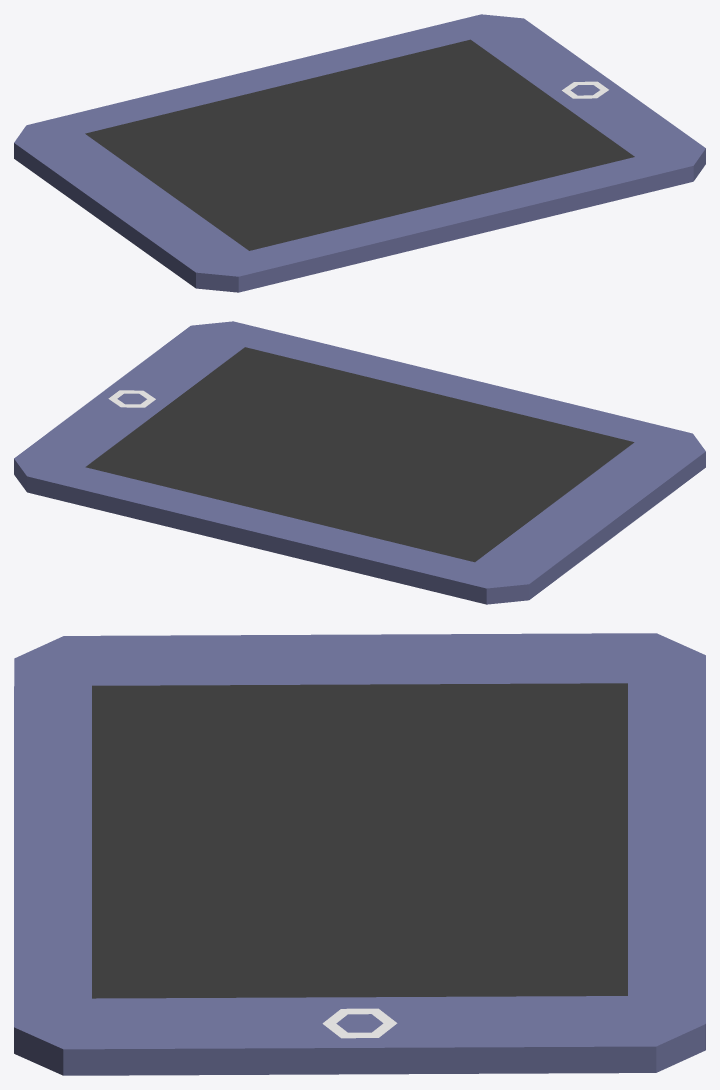
File: iPad.fbx
3 renders of one model, top to bottom at view 1: azimuth 30°, elevation 25°; view 2: azimuth 150°, elevation 25°; view 3: azimuth 270°, elevation 25°, orthographic. The views are drawn at different scales.
Visible parts, largest first — view 1: iPad; view 2: iPad; view 3: iPad.
Boxes of the visible parts, left/top/right/bottom form: iPad: left=14, top=14, right=705, bottom=292; iPad: left=14, top=321, right=705, bottom=604; iPad: left=14, top=633, right=705, bottom=1075.
Size of the model in its own units: 31.71 by 22.28 by 0.9595.
